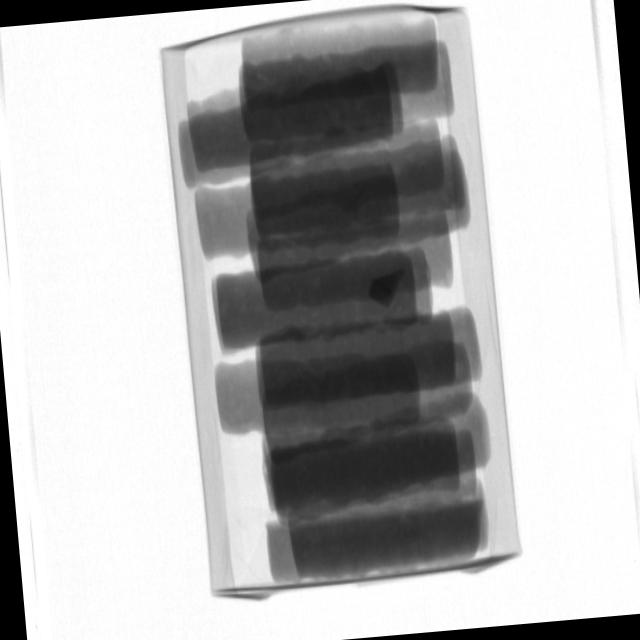ym: (368, 270, 402, 309)
